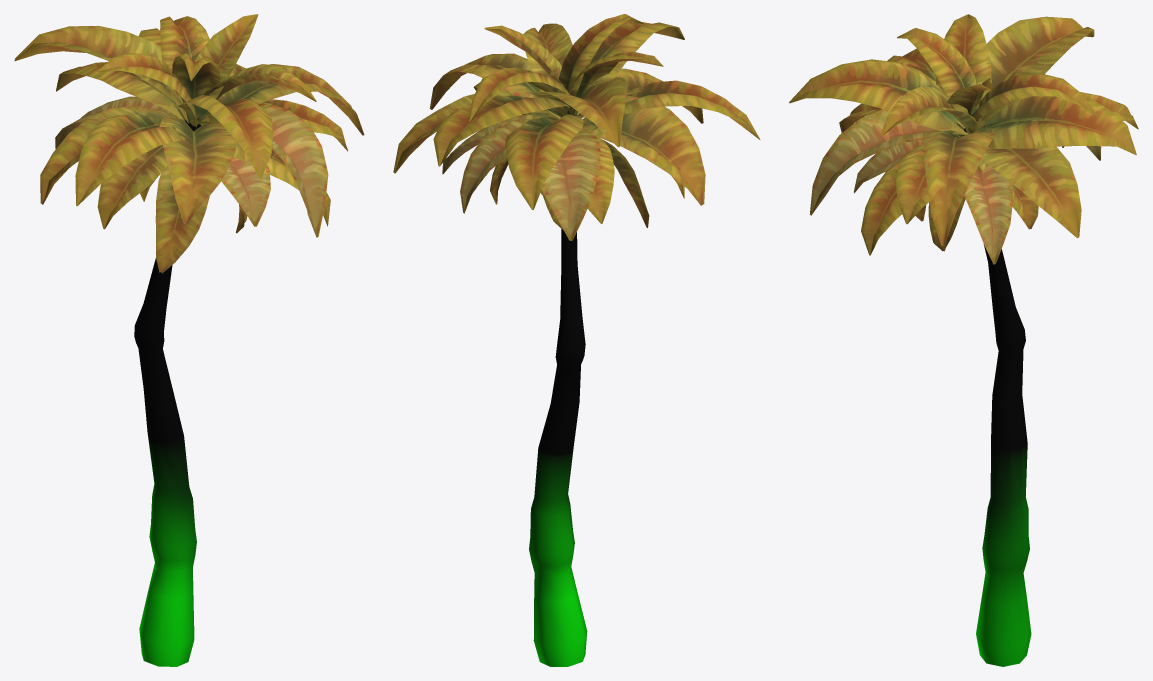
The model's file is SM_DesertPalmTree05.fbx.
3 renders of one model, left to right at view 1: azimuth 30°, elevation 25°; view 2: azimuth 150°, elevation 25°; view 3: azimuth 270°, elevation 25°, orthographic. The views are drawn at different scales.
Parts seen in each view (by area): view 1: SM_DesertPalmTree05_LOD0; view 2: SM_DesertPalmTree05_LOD0; view 3: SM_DesertPalmTree05_LOD0.
Boxes of the visible parts, x1,y1,x2,y2 form: SM_DesertPalmTree05_LOD0: (14,14,364,666); SM_DesertPalmTree05_LOD0: (393,14,760,666); SM_DesertPalmTree05_LOD0: (789,14,1138,666).
Bounding box in the file's own units: 787 × 1523 × 782.
